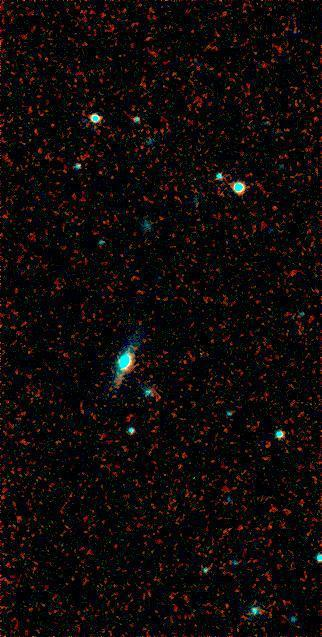star: (259, 193, 289, 223)
